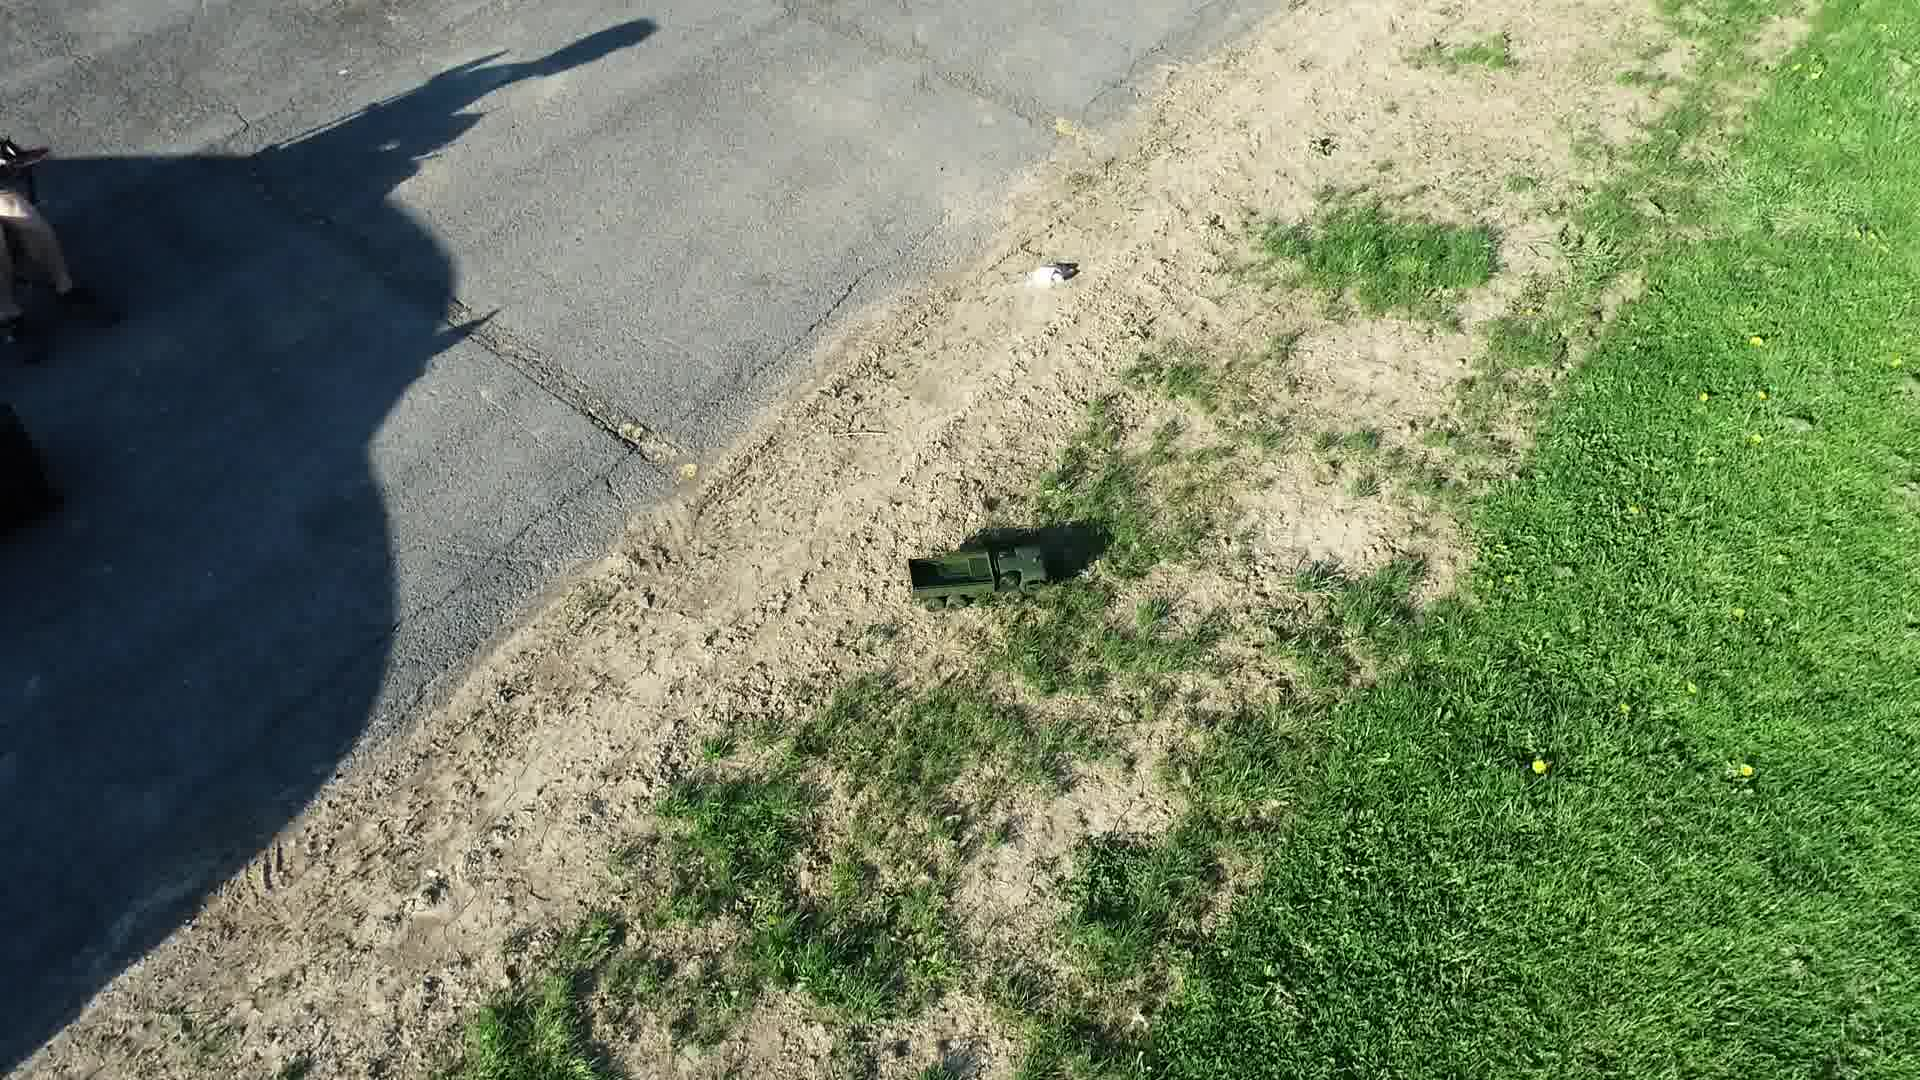transporter9: (897, 534, 1048, 612)
